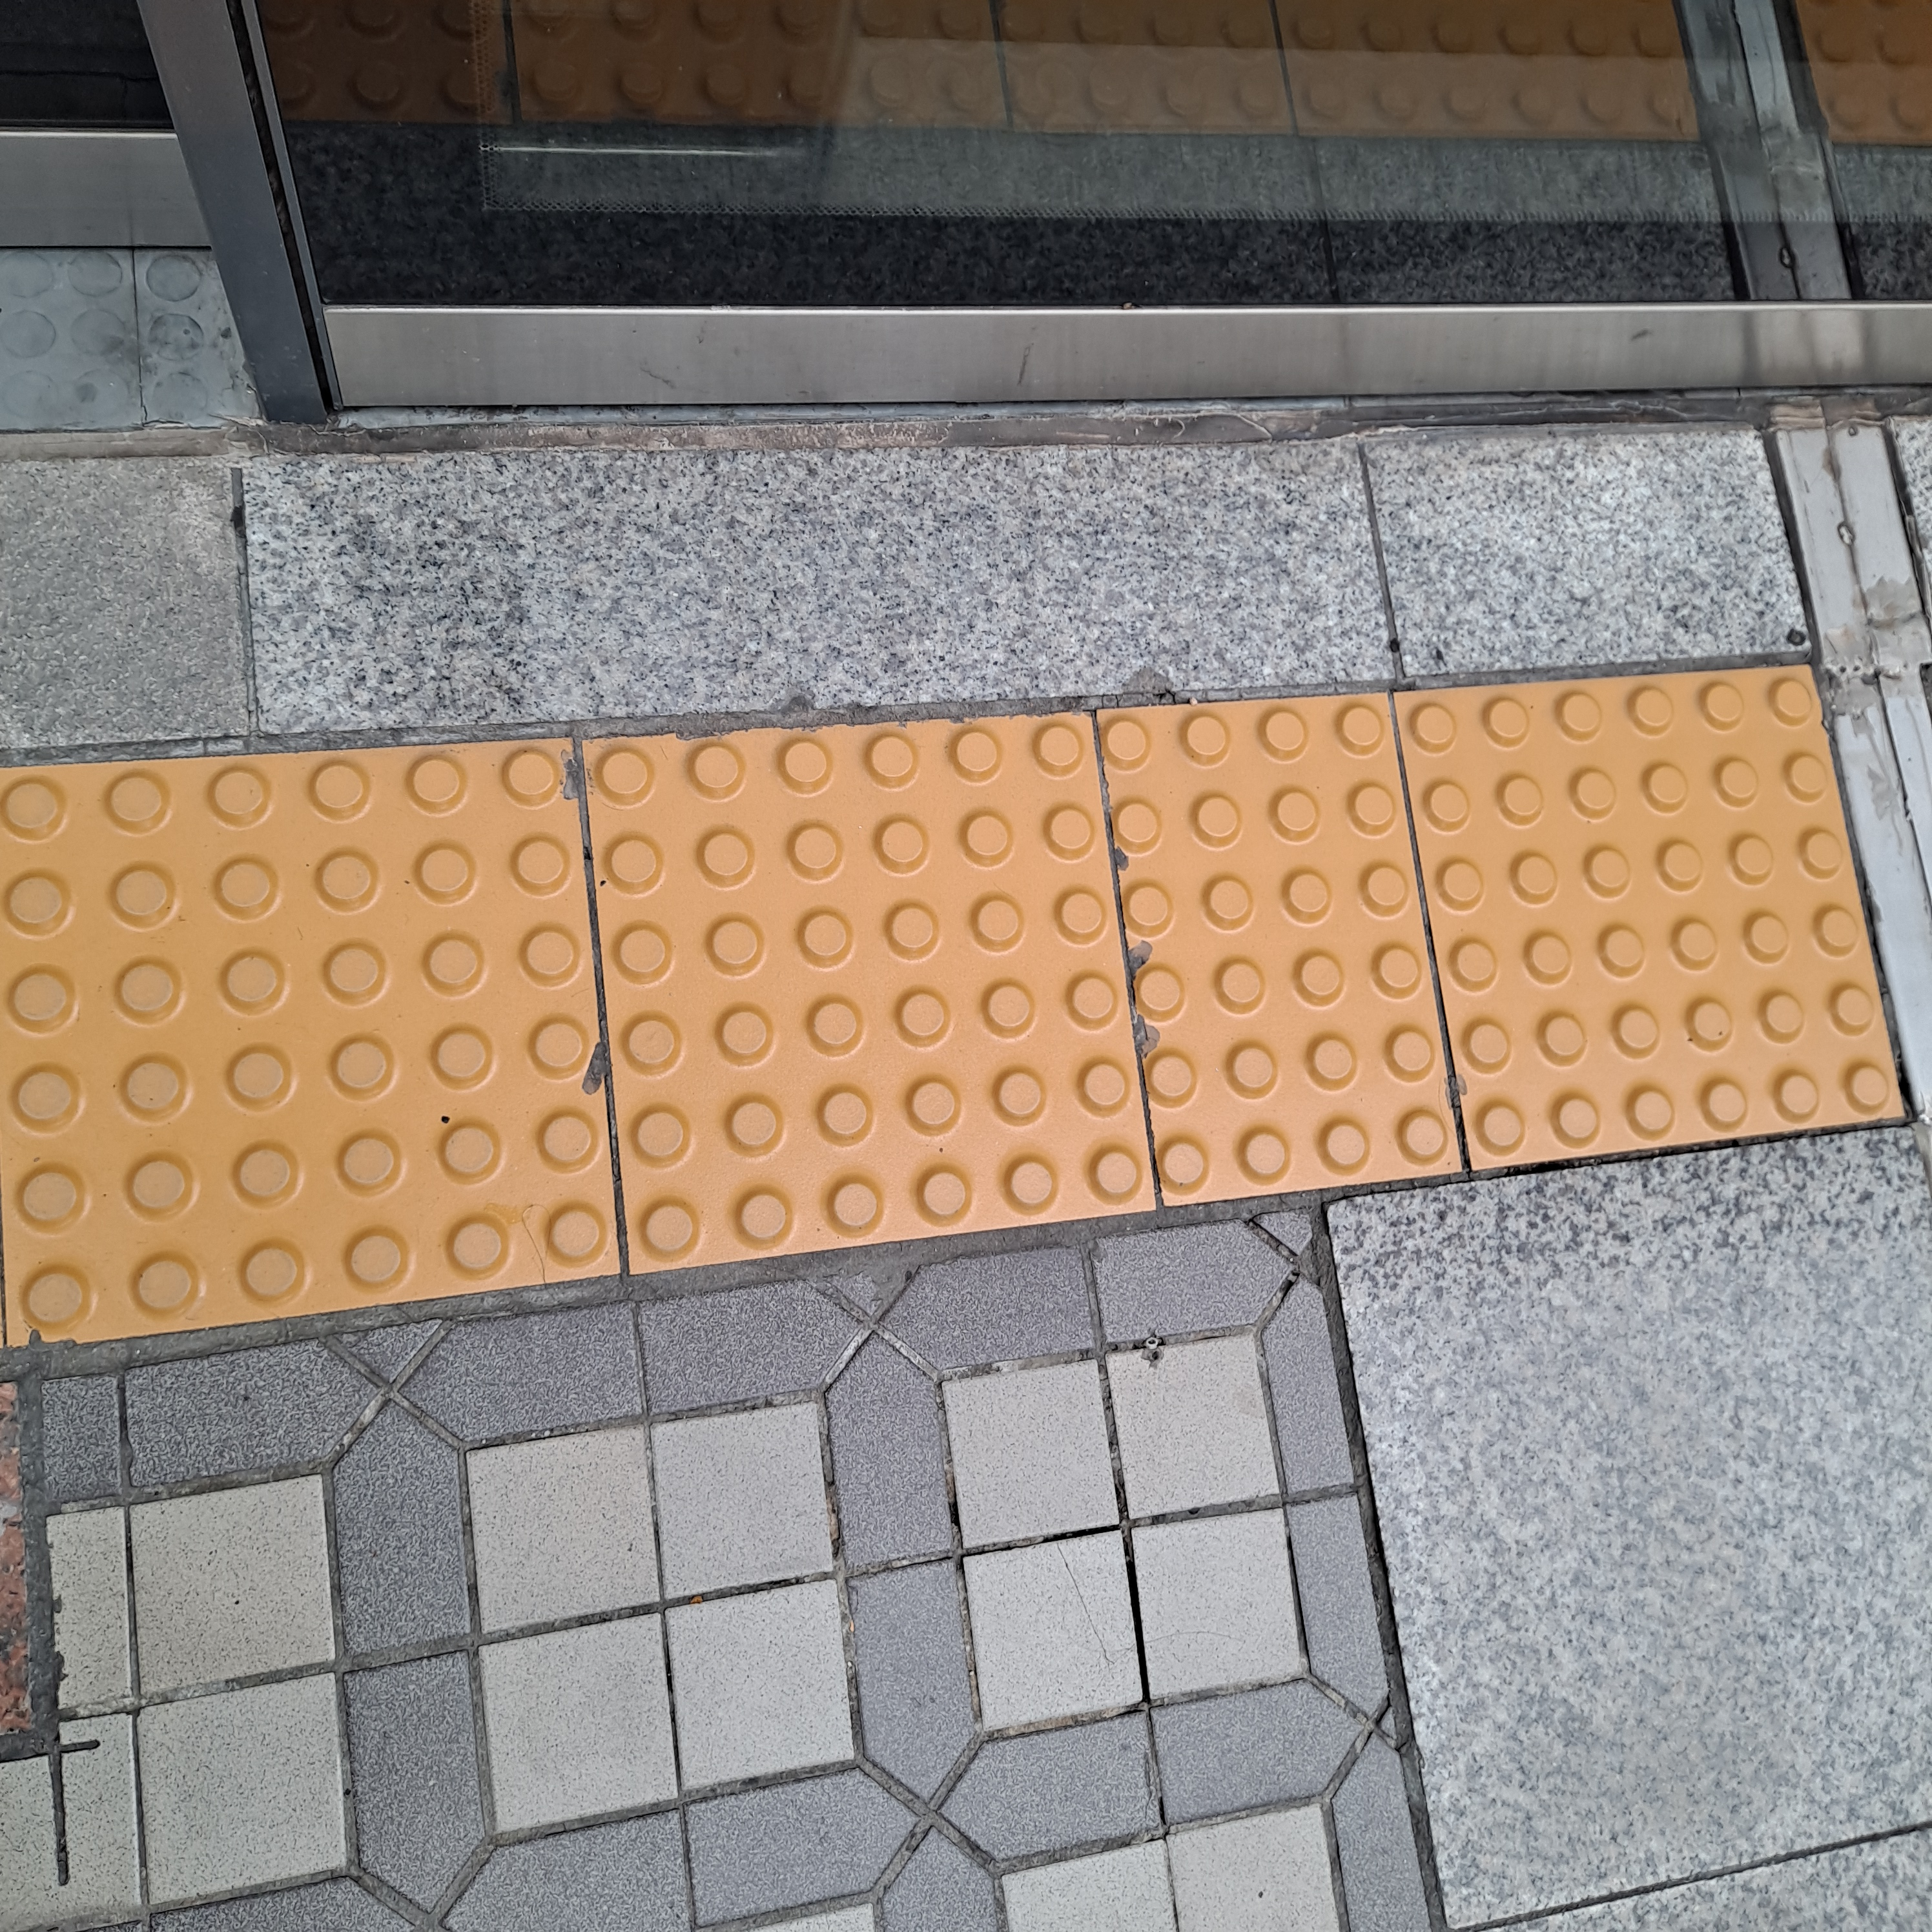warningBlock: (7, 750, 607, 1309), (586, 727, 1122, 1240), (1417, 665, 1888, 1141), (1108, 697, 1442, 1201)
